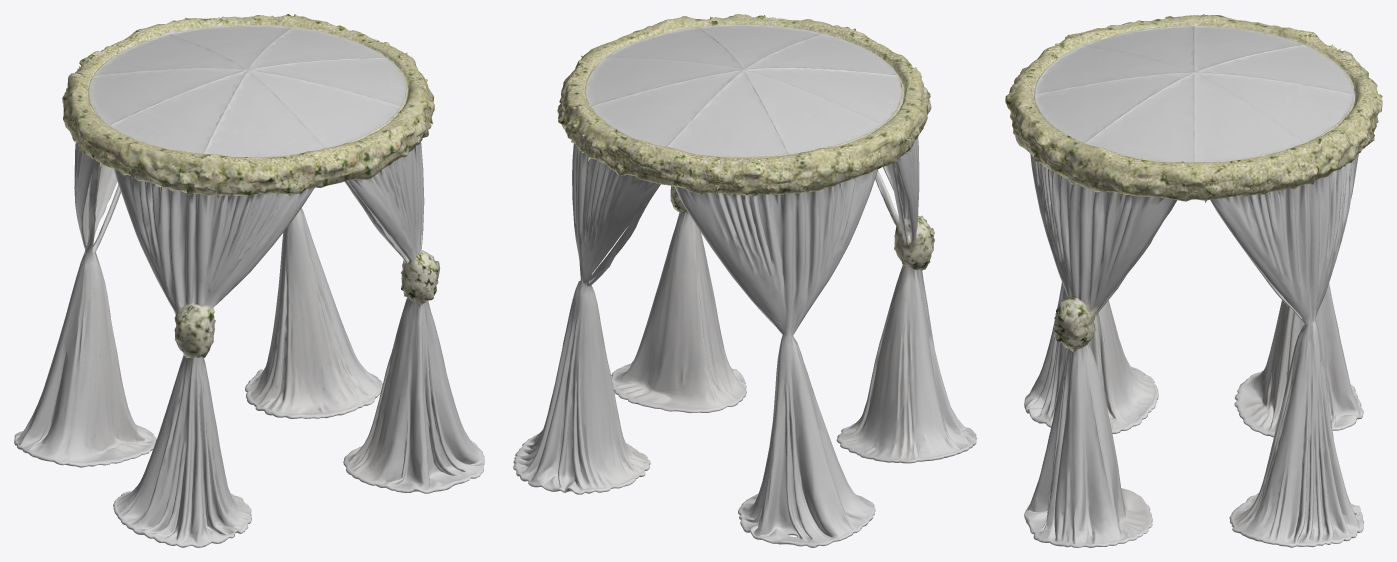
Rendered from chuppah-round-floral.glb.
3 renders of one model, left to right at view 1: azimuth 30°, elevation 25°; view 2: azimuth 150°, elevation 25°; view 3: azimuth 270°, elevation 25°, orthographic.
Visible parts, largest first — view 1: tripo_node_e71fee3b-fbb9-403b-afef-eb608a0e02f0; view 2: tripo_node_e71fee3b-fbb9-403b-afef-eb608a0e02f0; view 3: tripo_node_e71fee3b-fbb9-403b-afef-eb608a0e02f0.
Part boxes in pixels (x1,y1,x2,y2): tripo_node_e71fee3b-fbb9-403b-afef-eb608a0e02f0: (14, 14, 484, 547); tripo_node_e71fee3b-fbb9-403b-afef-eb608a0e02f0: (513, 14, 976, 547); tripo_node_e71fee3b-fbb9-403b-afef-eb608a0e02f0: (1005, 14, 1382, 547).
Bounding box in the file's own units: 2.56 × 2.7 × 2.34.
1 material, 1 textured.
